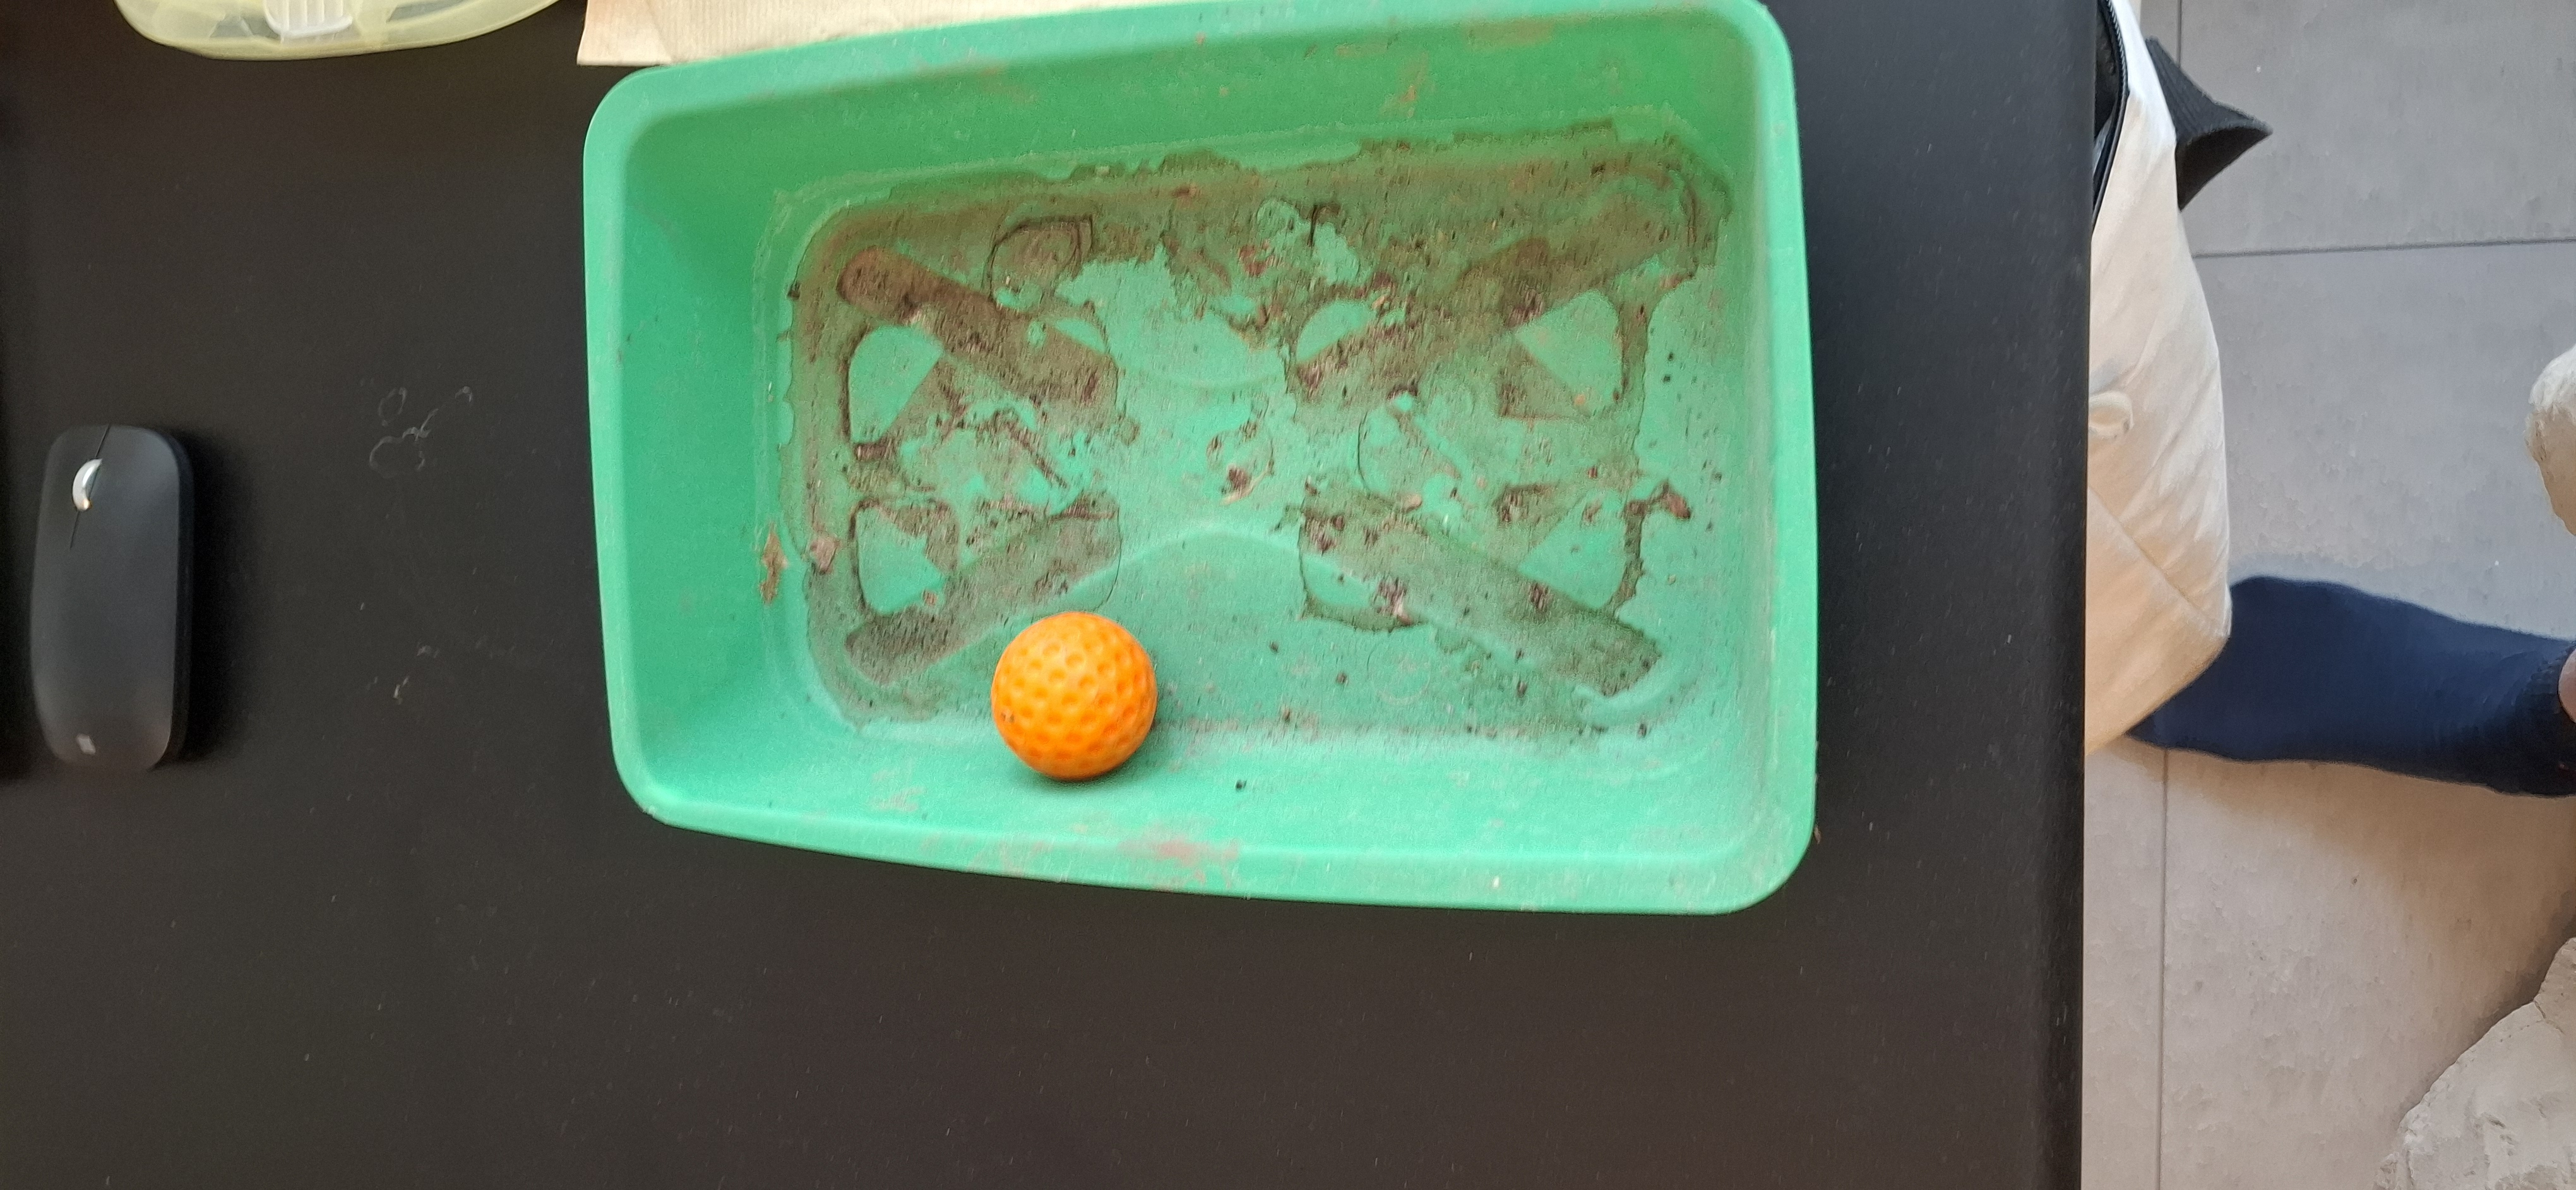ball: (987, 611, 1158, 786)
